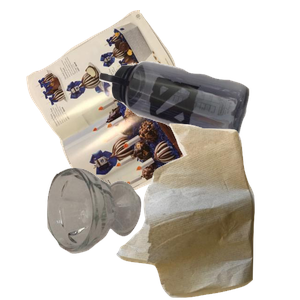glass: (44, 165, 178, 300)
paper: (24, 10, 235, 190)
plastic: (97, 59, 300, 197)
trash: (114, 121, 300, 300)
